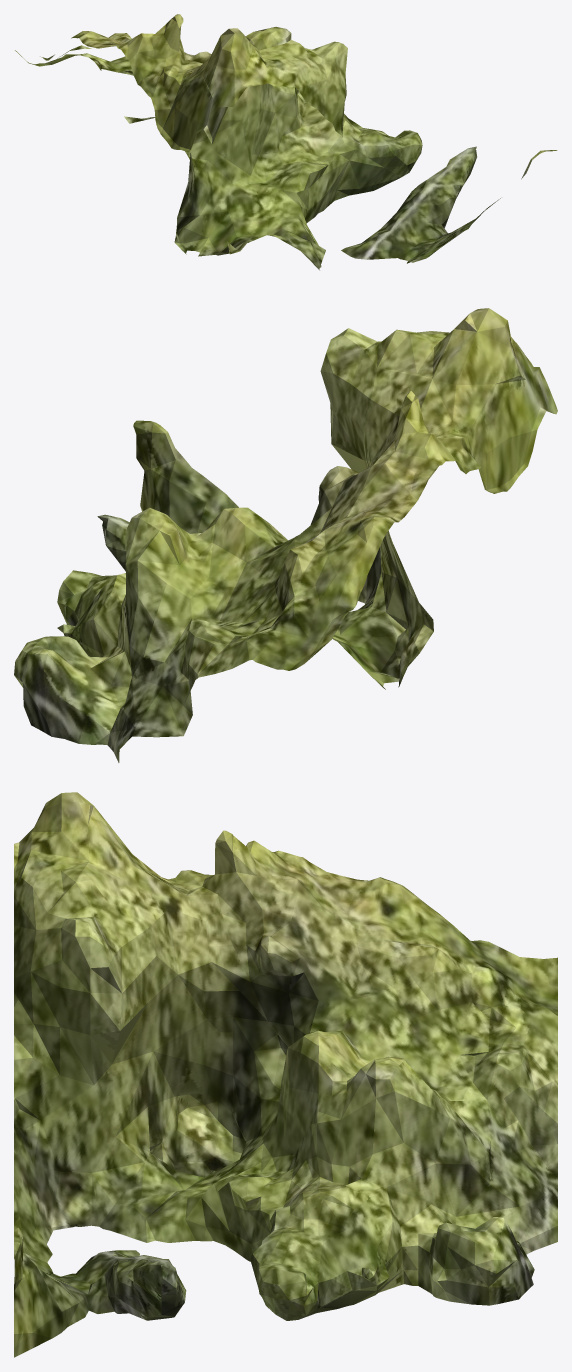
The picture shows the model from 3 angles, top to bottom: view 1: azimuth 30°, elevation 25°; view 2: azimuth 150°, elevation 25°; view 3: azimuth 270°, elevation 25°; orthographic projection. The views are drawn at different scales.
Bounding box in the file's own units: 2.95 × 2.21 × 2.95.
Materials: 4 (4 with a texture image).
